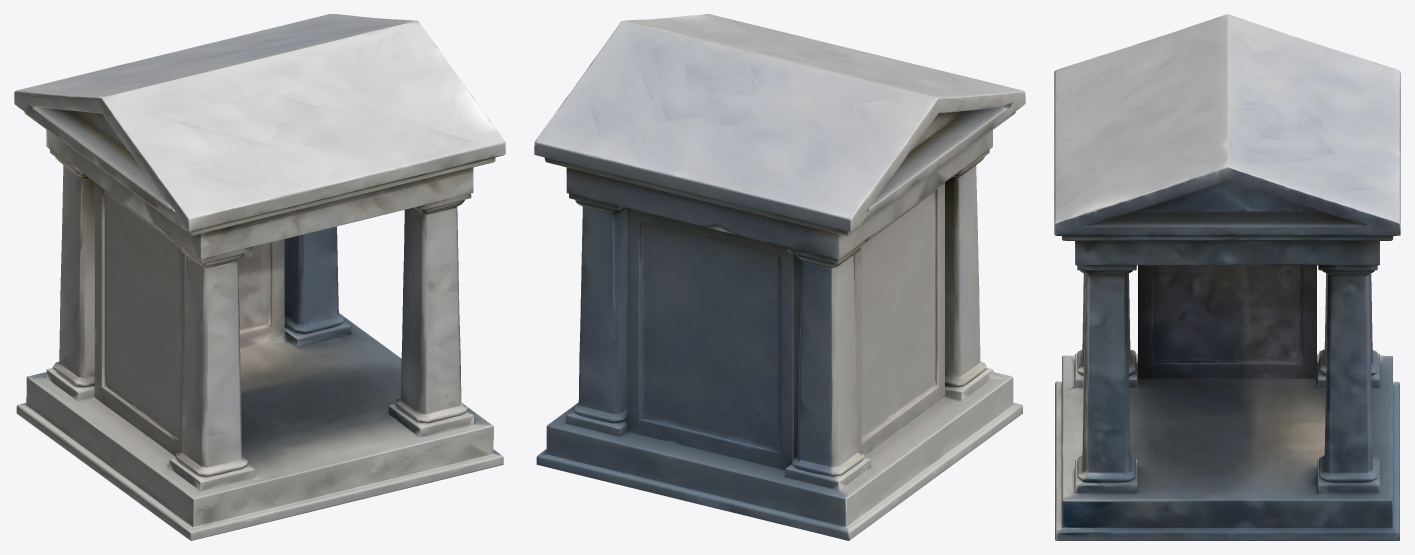
The model's file is tomb3.fbx.
3 renders of one model, left to right at view 1: azimuth 30°, elevation 25°; view 2: azimuth 150°, elevation 25°; view 3: azimuth 270°, elevation 25°, orthographic.
Parts seen in each view (by area): view 1: tripo_node_a4a51058; view 2: tripo_node_a4a51058; view 3: tripo_node_a4a51058.
Part boxes in pixels (x1,y1,x2,y2): tripo_node_a4a51058: (14, 14, 505, 540); tripo_node_a4a51058: (534, 14, 1025, 540); tripo_node_a4a51058: (1054, 14, 1400, 540).
Size of the model in its own units: 0.8738 by 1 by 0.8348.
1 material, 1 textured.
